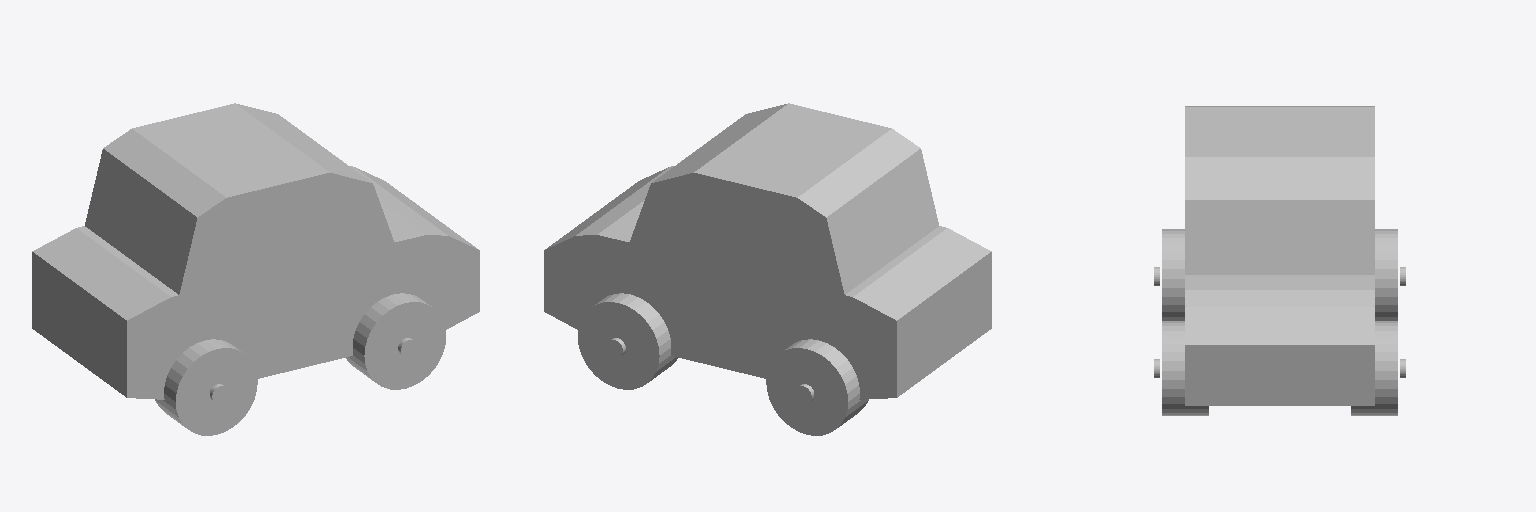
File: Toy Car.obj
The picture shows the model from 3 angles: view 1: azimuth 30°, elevation 25°; view 2: azimuth 150°, elevation 25°; view 3: azimuth 270°, elevation 25°; orthographic projection.
Parts seen in each view (by area): view 1: ToyCar; view 2: ToyCar; view 3: ToyCar.
Part boxes in pixels (bbox=[...]): ToyCar: bbox=[32, 103, 479, 435]; ToyCar: bbox=[544, 103, 991, 435]; ToyCar: bbox=[1154, 106, 1405, 415].
Size of the model in its own units: 4.3 by 2.6 by 2.66.